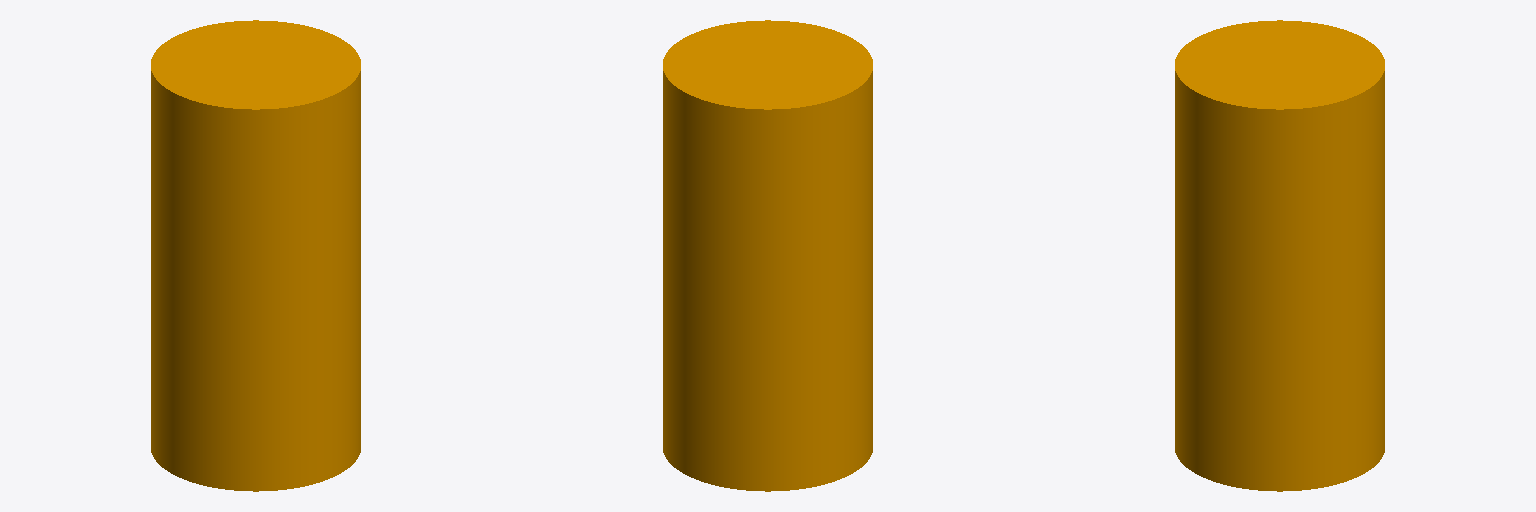
URDF robot description (peg):
<?xml version="1.0"?>
<robot name="peg">
  <link name="peg_link">
    <inertial>
      <origin xyz="0 0 0" rpy="0 0 0"/>
      <mass value="10.0" />
      <inertia  ixx="0.0" ixy="0.0"  ixz="0.0"  iyy="0.0"  iyz="0.0"  izz="0.0" />
    </inertial>

    <visual>
      <origin xyz="0 0 0" rpy="0 0 0"/>
      <geometry>
        <mesh filename="package://ur_gazebo/meshes/peg.STL" scale="0.003 0.003 0.003"/>
      </geometry>
    </visual>

    <collision>
      <origin xyz="0 0 0" rpy="0 0 0" />
      <geometry>
        <mesh
          filename="package://ur_gazebo/meshes/peg.STL" scale="0.003 0.003 0.003"/>
        <box size="0.022 0.00635 0.0375"/>
      </geometry>
      <surface>
        <bounce>
          <restitution_coefficient>0</restitution_coefficient>
        </bounce>
        <friction>
          <ode>
            <mu>0.01</mu>
            <mu2>0.01</mu2>
          </ode>
        </friction>
      </surface>
      <!-- <selfCollide>true</selfCollide> -->
    </collision>

  </link>

  <gazebo reference="peg_link">
    <material>Gazebo/White</material>
    <turnGravityOff>false</turnGravityOff>
    <selfCollide>true</selfCollide>
  </gazebo>

</robot>

--- What the picture shows (computed from the rendered views, not written in the file) ---
The picture shows the robot from 3 angles, left to right: view 1: azimuth 30°, elevation 25°; view 2: azimuth 150°, elevation 25°; view 3: azimuth 270°, elevation 25°; orthographic projection.
Model peg with 1 links and 0 joints (none), rooted at peg_link, posed every joint at zero.
Links seen in each view (by area): view 1: peg_link; view 2: peg_link; view 3: peg_link.
Link boxes in pixels (bbox=[...]): peg_link: bbox=[151, 20, 360, 491]; peg_link: bbox=[663, 20, 872, 491]; peg_link: bbox=[1175, 20, 1384, 491].
Size in the robot's own frame: 0.06 by 0.06 by 0.12 metres.
1 mesh visuals loaded from 1 distinct referenced files (1 binary STL).